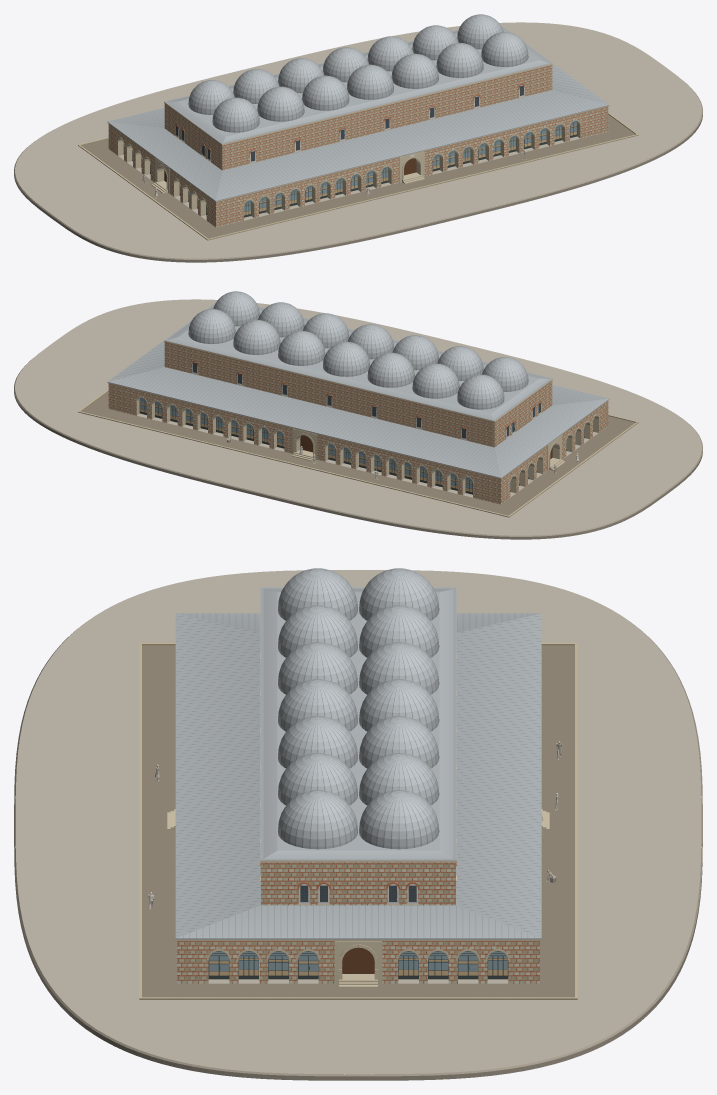
The model's file is bedesten_v06_sunum.glb.
The picture shows the model from 3 angles, top to bottom: view 1: azimuth 30°, elevation 25°; view 2: azimuth 150°, elevation 25°; view 3: azimuth 270°, elevation 25°; orthographic projection. The views are drawn at different scales.
Parts seen in each view (by area): view 1: Zemin, Cati, Kubbeler, Dukkanlar, Govde, Zemin_Serit, Sacak, Zemin_Bordur, Pencereler, Kapilar, Dukkan_Kapilari; view 2: Zemin, Cati, Kubbeler, Dukkanlar, Govde, Zemin_Serit, Sacak, Zemin_Bordur, Pencereler, Kapilar, Dukkan_Kapilari; view 3: Zemin, Cati, Kubbeler, Zemin_Serit, Dukkanlar, Govde, Zemin_Bordur, Sacak, Kapilar, Pencereler.
Part boxes in pixels (x1=…): Zemin: x1=14, y1=22, x2=702, y2=262; Cati: x1=107, y1=28, x2=609, y2=201; Kubbeler: x1=188, y1=14, x2=528, y2=132; Dukkanlar: x1=108, y1=106, x2=608, y2=227; Govde: x1=164, y1=26, x2=552, y2=170; Zemin_Serit: x1=81, y1=114, x2=635, y2=238; Sacak: x1=108, y1=25, x2=608, y2=202; Zemin_Bordur: x1=78, y1=112, x2=638, y2=240; Pencereler: x1=175, y1=83, x2=525, y2=163; Kapilar: x1=151, y1=151, x2=424, y2=193; Dukkan_Kapilari: x1=117, y1=119, x2=581, y2=206; Zemin: x1=14, y1=299, x2=702, y2=539; Cati: x1=107, y1=305, x2=609, y2=478; Kubbeler: x1=188, y1=291, x2=528, y2=409; Dukkanlar: x1=108, y1=383, x2=608, y2=504; Govde: x1=164, y1=303, x2=552, y2=447; Zemin_Serit: x1=81, y1=391, x2=635, y2=515; Sacak: x1=108, y1=302, x2=608, y2=479; Zemin_Bordur: x1=78, y1=389, x2=638, y2=517; Pencereler: x1=191, y1=360, x2=541, y2=440; Kapilar: x1=292, y1=428, x2=565, y2=470; Dukkan_Kapilari: x1=135, y1=396, x2=599, y2=483; Zemin: x1=14, y1=570, x2=702, y2=1080; Cati: x1=175, y1=589, x2=541, y2=939; Kubbeler: x1=278, y1=568, x2=439, y2=849; Zemin_Serit: x1=142, y1=645, x2=577, y2=999; Dukkanlar: x1=177, y1=941, x2=539, y2=983; Govde: x1=261, y1=587, x2=455, y2=905; Zemin_Bordur: x1=139, y1=642, x2=577, y2=999; Sacak: x1=176, y1=587, x2=540, y2=940; Kapilar: x1=167, y1=809, x2=549, y2=987; Pencereler: x1=260, y1=654, x2=456, y2=904.
Size of the model in its own units: 110 by 14.8 by 63.63.
Materials: 18 (5 with a texture image).
